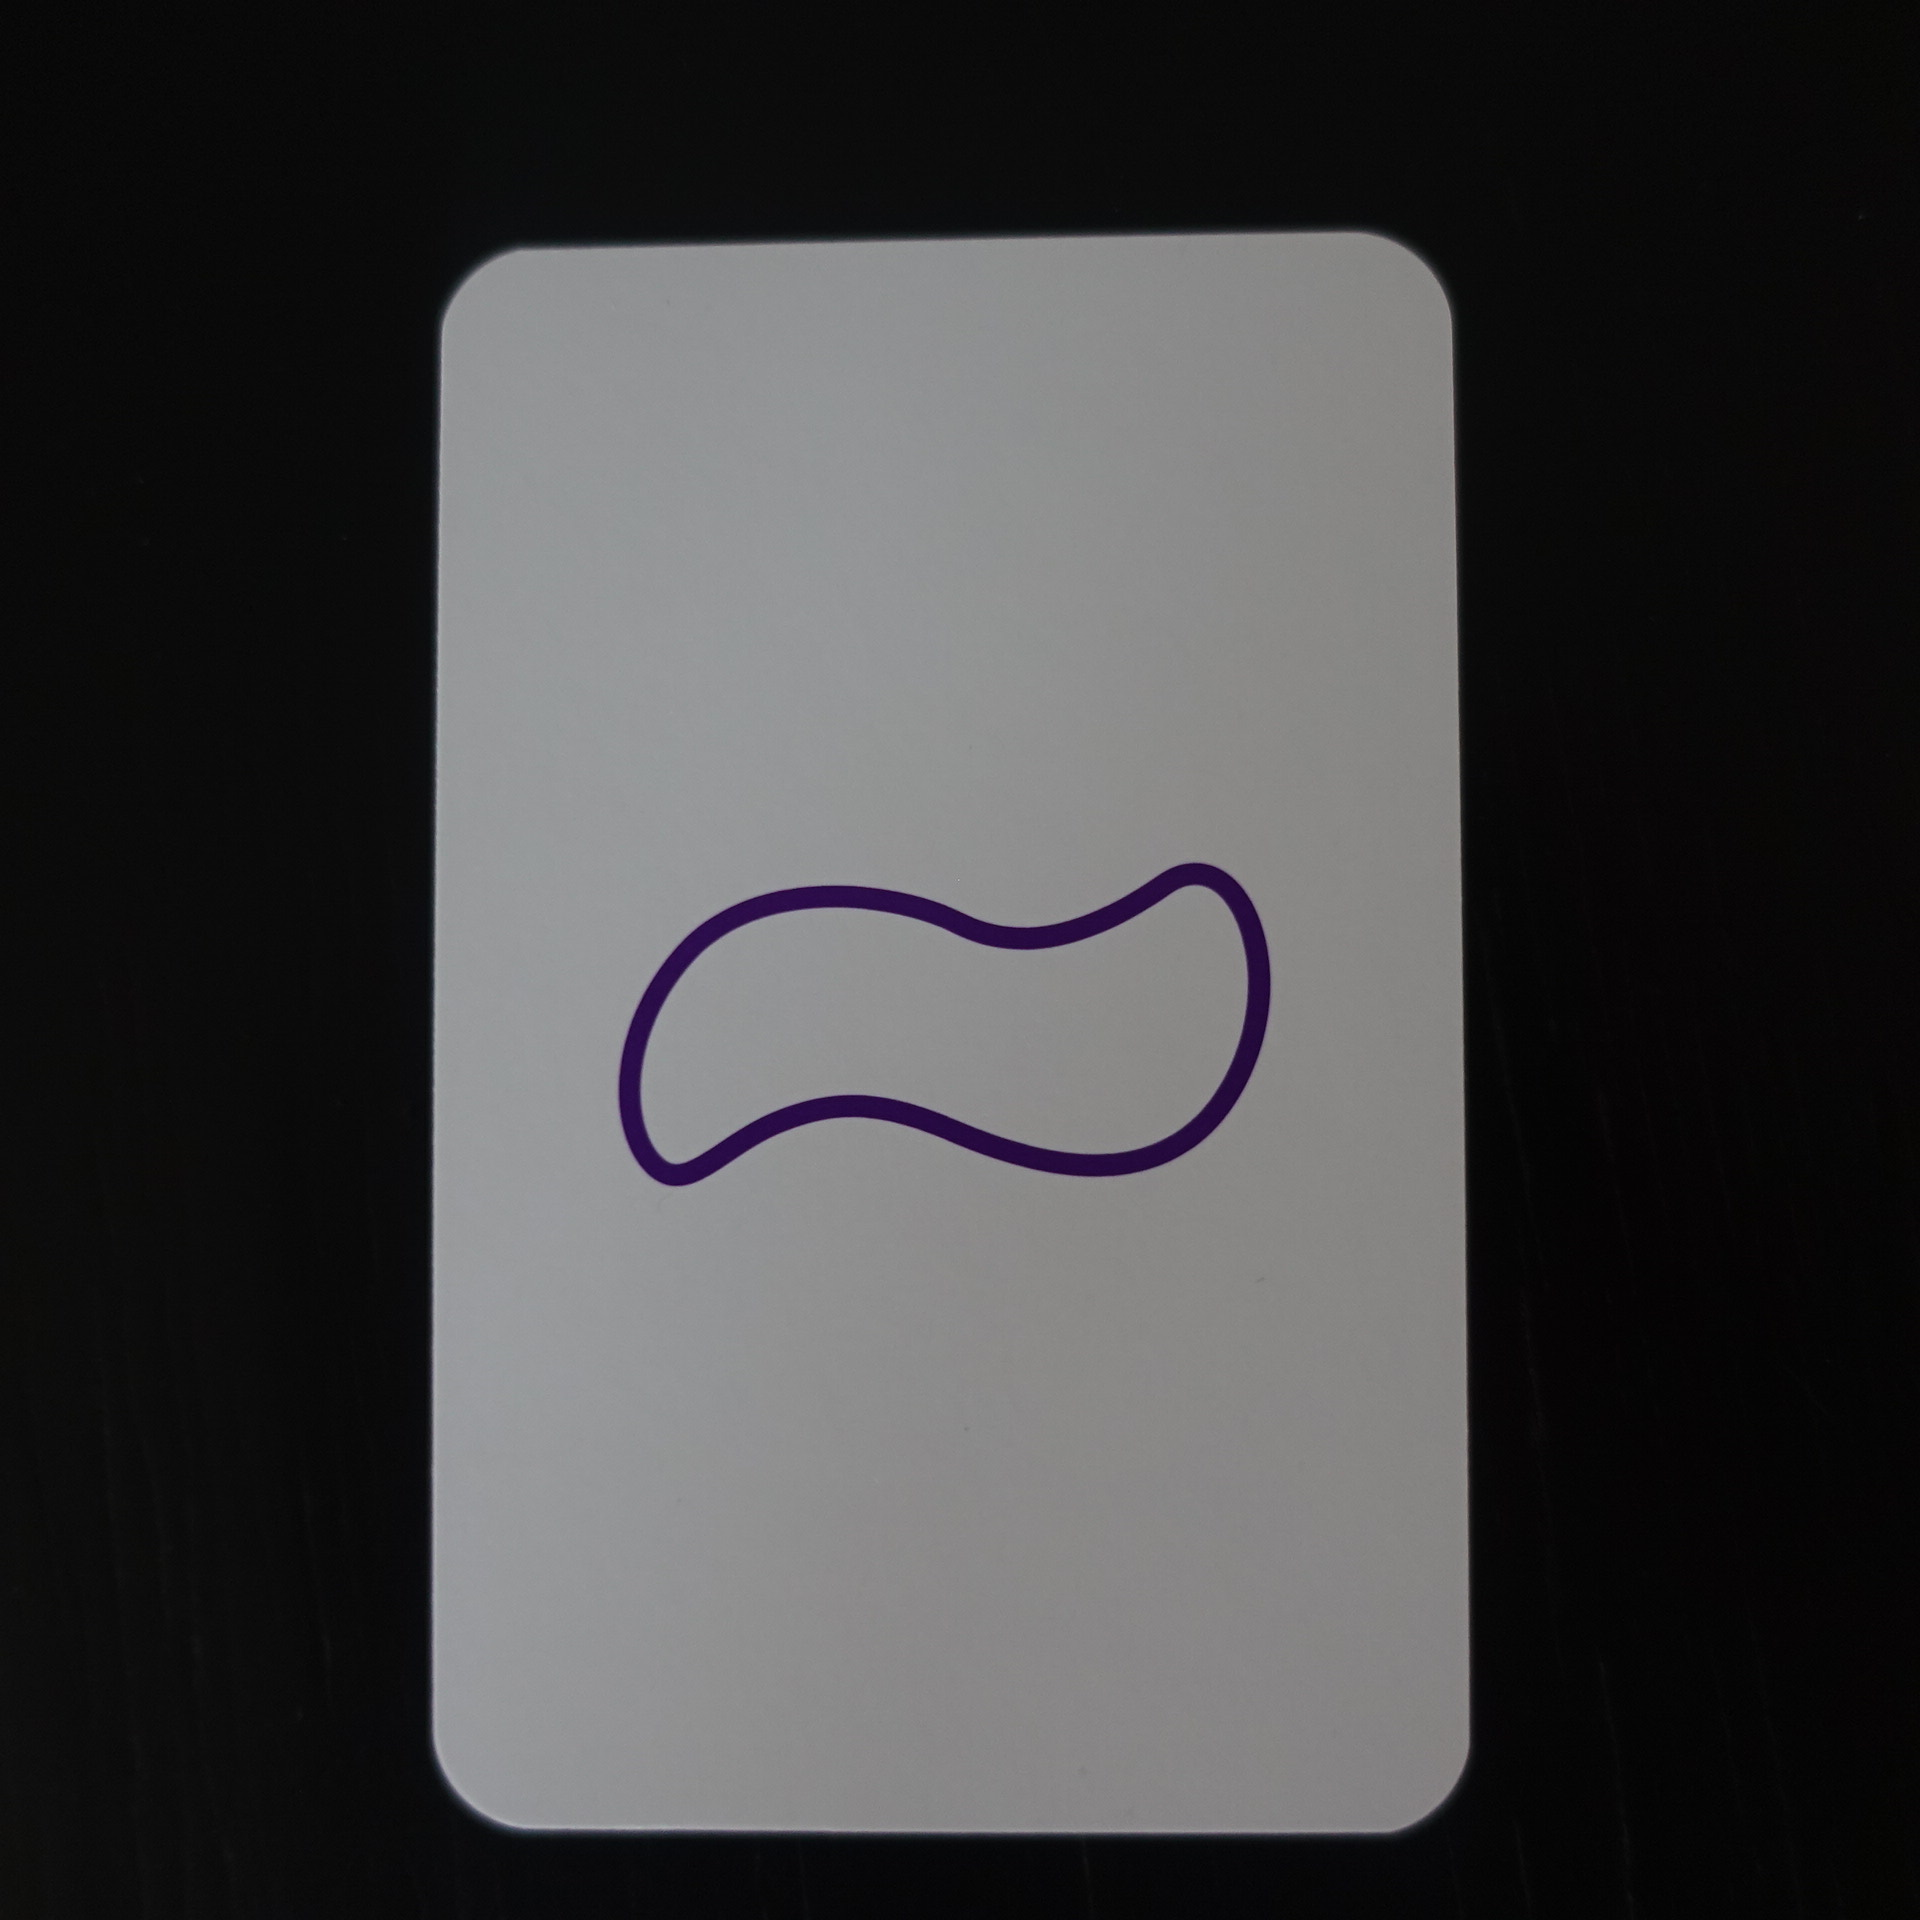c-1-u-s-p: (375, 207, 1516, 1867)
